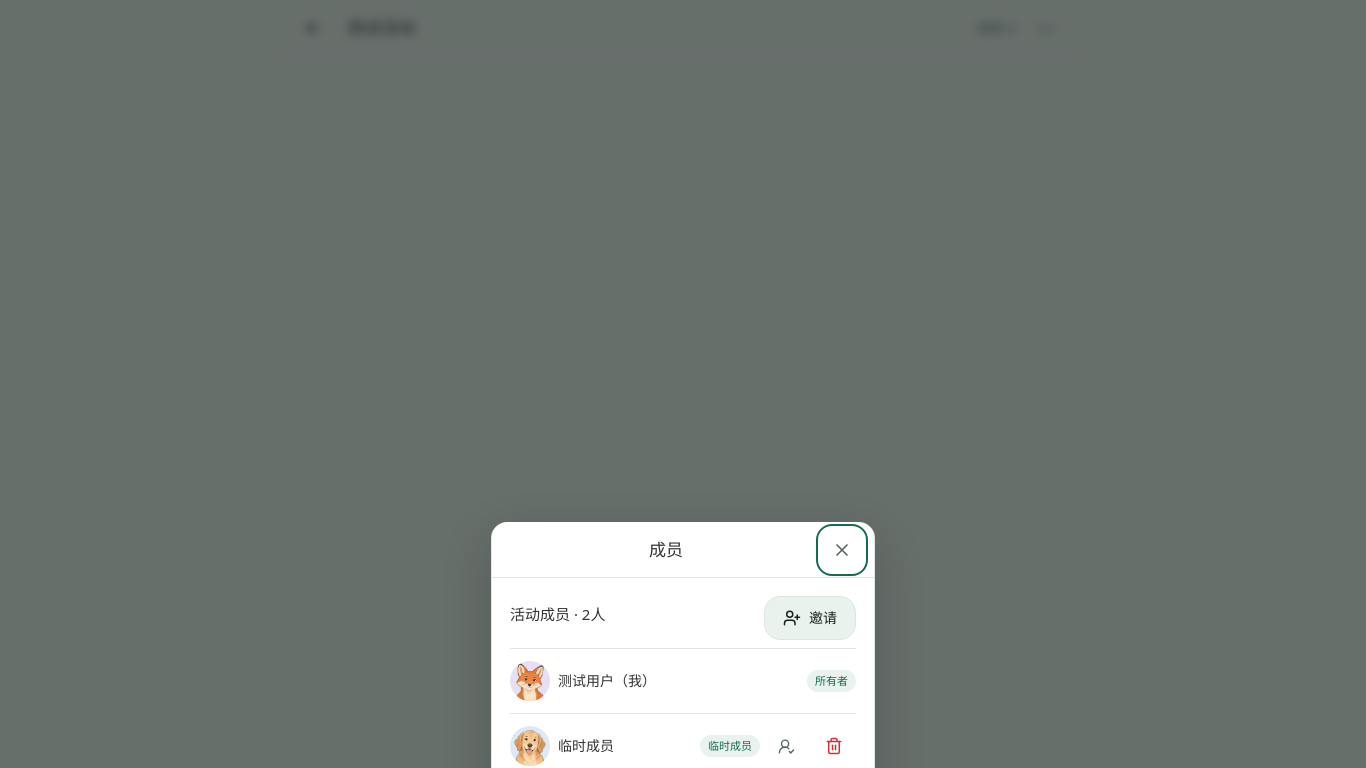
Test case: 成员 Overlay › 菜单可由 Escape 单独关闭并把焦点还给邀请按钮
This screenshot has width=1366, height=768.
Click the button "邀请" at (810, 618), box [764, 596, 856, 640]
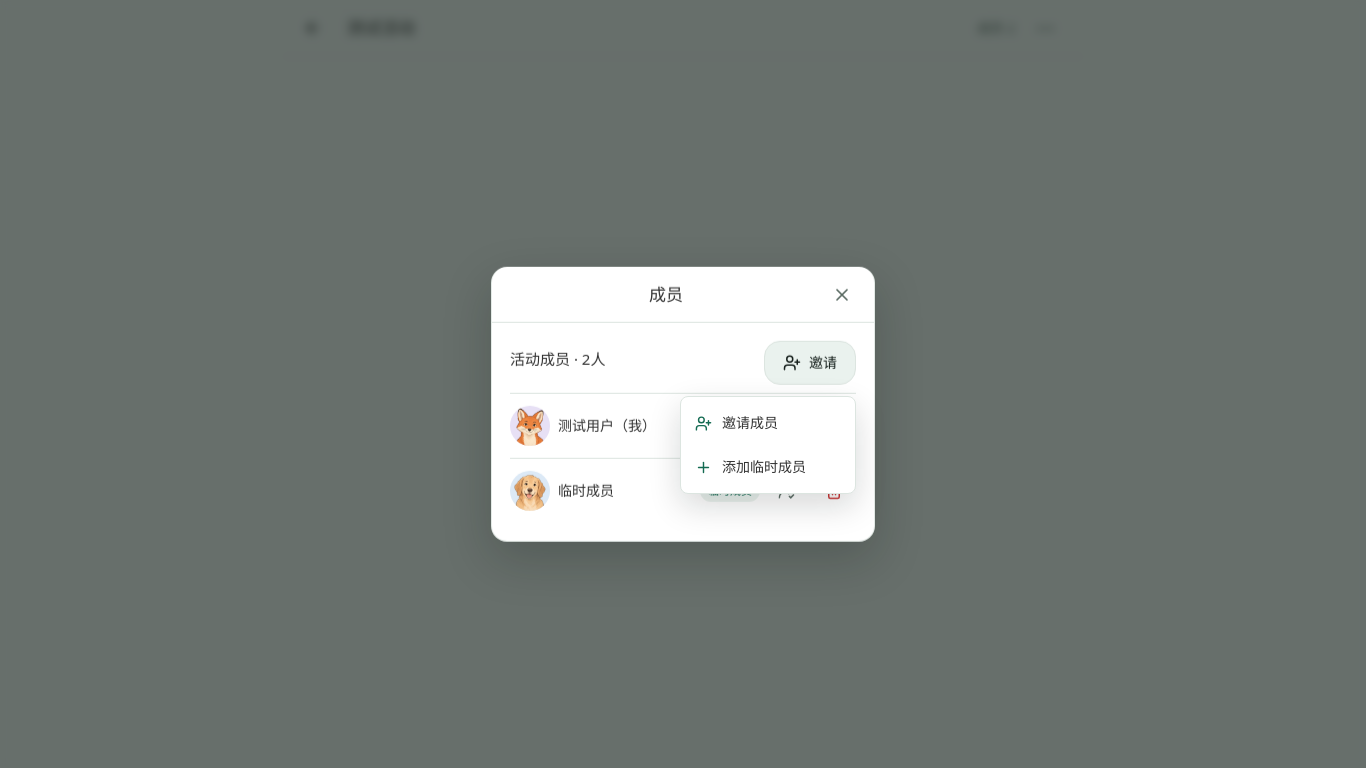
expect the menu item "添加临时成员" is shown: met, box [695, 457, 806, 476]
Press Escape
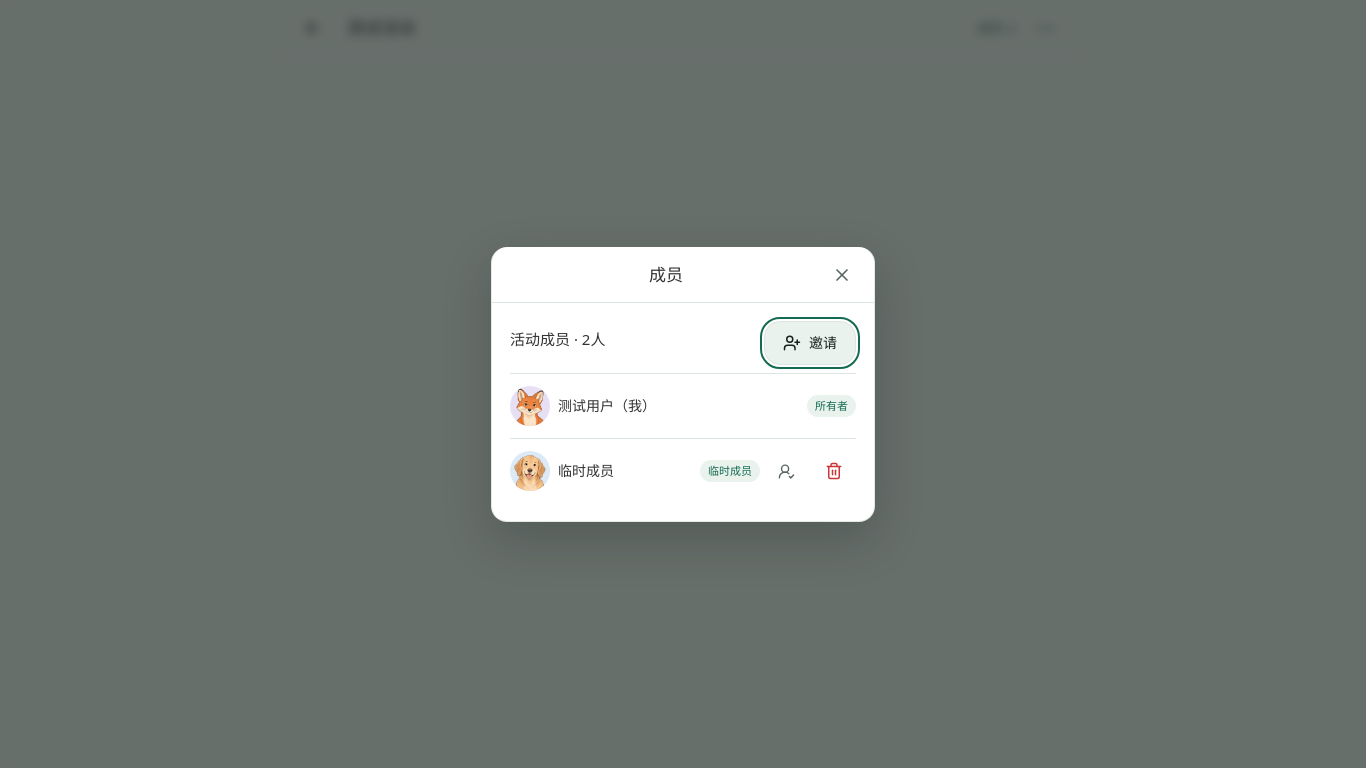
expect the dialog "成员" is shown: met, box [491, 246, 875, 522]
expect the menu item is gone: met
